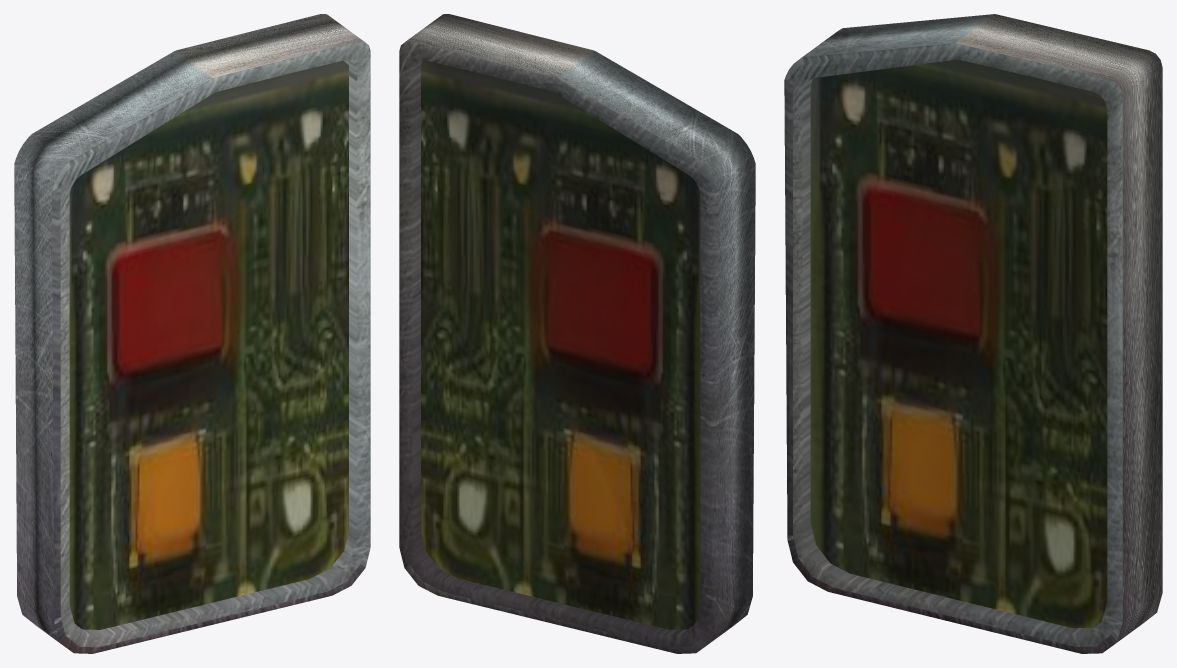
Rendered from keycard.fbx.
3 renders of one model, left to right at view 1: azimuth 30°, elevation 25°; view 2: azimuth 150°, elevation 25°; view 3: azimuth 330°, elevation 25°, orthographic. The views are drawn at different scales.
Visible parts, largest first — view 1: Cube; view 2: Cube; view 3: Cube.
Boxes of the visible parts, bbox=[...] form: Cube: bbox=[14, 14, 370, 653]; Cube: bbox=[399, 14, 755, 653]; Cube: bbox=[784, 14, 1162, 653].
Bounding box in the file's own units: 122 × 200 × 25.36.
Materials: 2 (2 with a texture image).
